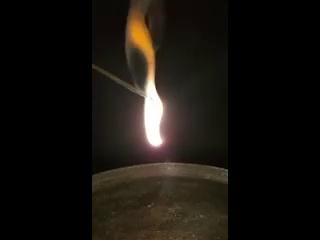Fire: (135, 22, 169, 150)
